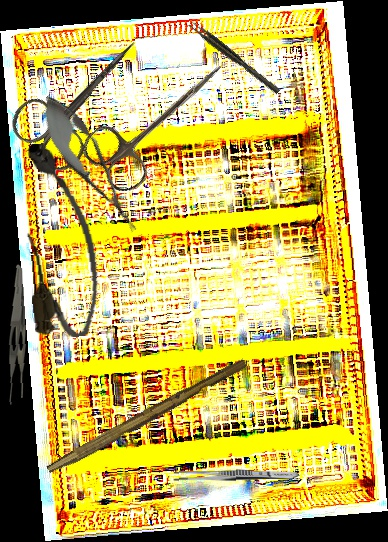Cannula: (15, 138, 105, 342)
Dressing Forceps: (0, 263, 30, 407), (172, 468, 300, 483)
Iris Scissors: (76, 37, 243, 200), (2, 15, 165, 180)
Micro Scissor: (28, 86, 152, 242)
Scalpel Handle: (46, 354, 248, 480)
Tissue Forceps: (187, 18, 281, 98)
